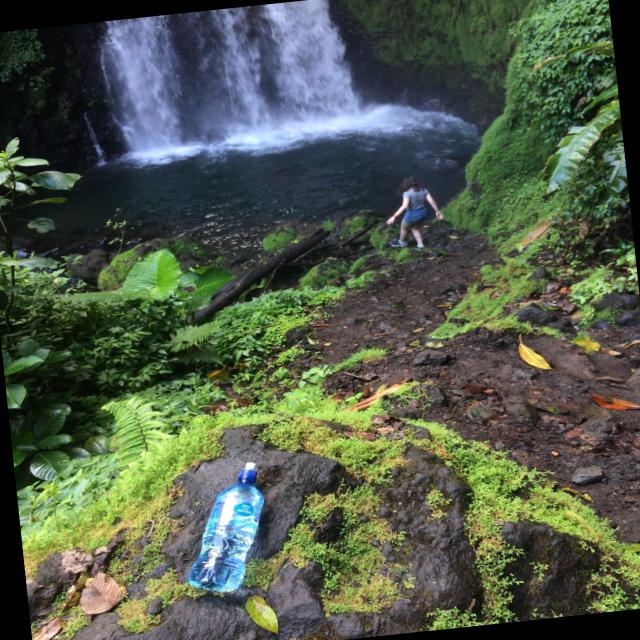less trash: (188, 463, 264, 592)
